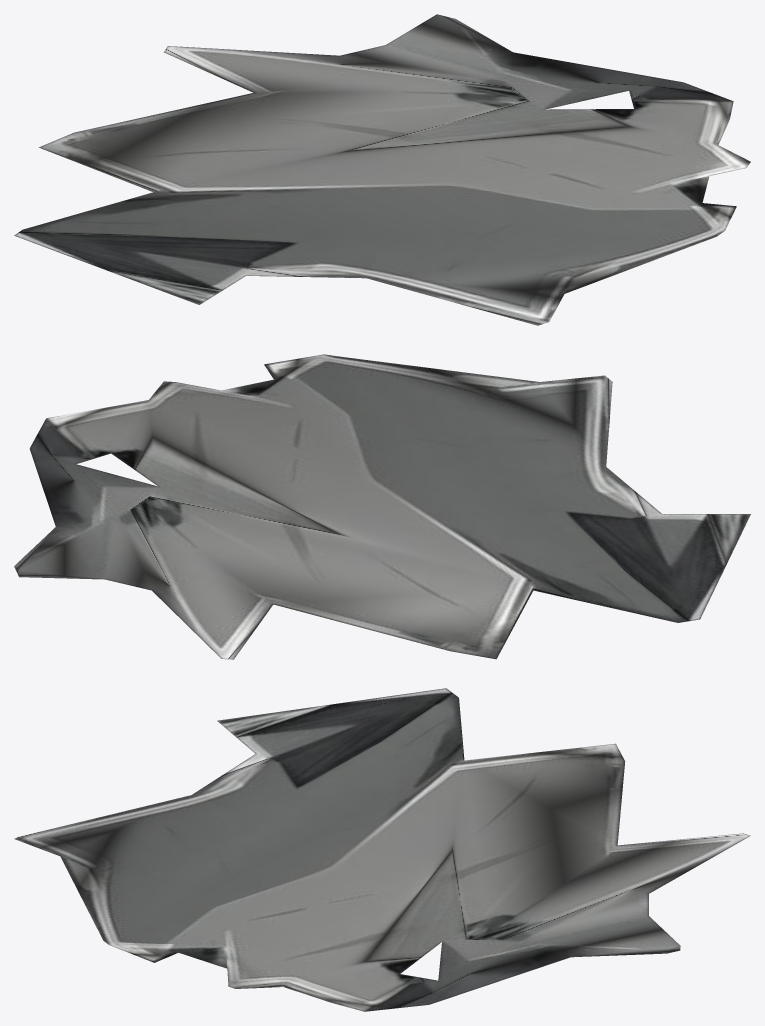
Rendered from metal.glb.
3 views of the same model, one above another, from view 1: azimuth 30°, elevation 25°; view 2: azimuth 150°, elevation 25°; view 3: azimuth 270°, elevation 25° (orthographic). The views are drawn at different scales.
Size of the model in its own units: 1.92 by 0.0141 by 1.85.
1 material, 1 textured.
